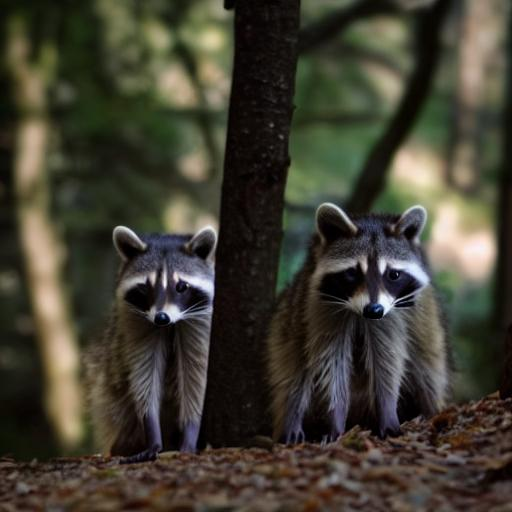raccoon: (268, 195, 431, 413), (94, 223, 214, 443)
